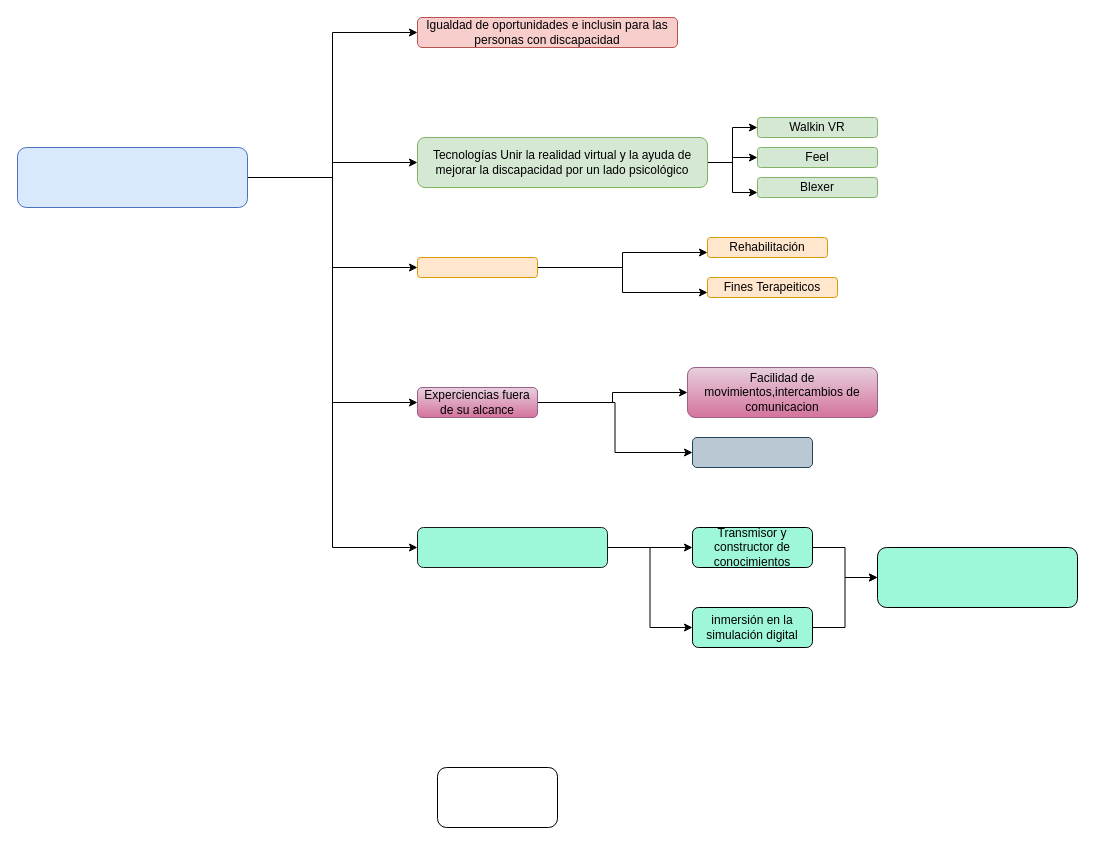
Image size: 1095x845. Some labels were removed from this diagram. The shapes that lost their labels are listed below. From the top down, each one's centre as x and y in pixels, then its label:
At point (132, 177): "Realidad virtual a personas con discapacidad".
At point (477, 267): "Diagnosticos".
At point (752, 452): "Estimula los sentidos".
At point (512, 547): "Metodologías de aprendizaje en la sal va R. Virtual".
At point (977, 577): "incremento e habilidades cognitivas".
